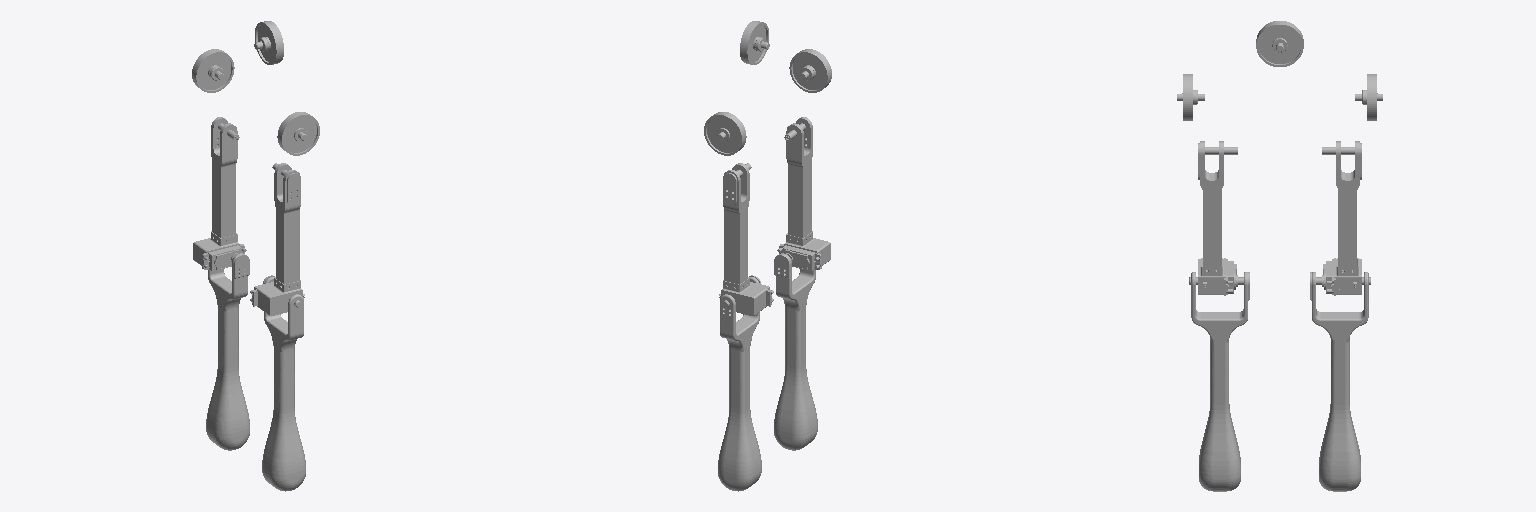
The robot description file, URDF, robot "URDF":
<?xml version="1.0" encoding="utf-8"?>
<!-- This URDF was automatically created by SolidWorks to URDF Exporter! Originally created by [author] ([email redacted]) 
     Commit Version: 1.6.0-4-g7f85cfe  Build Version: 1.6.7995.38578
     For more information, please see http://wiki.ros.org/sw_urdf_exporter -->
<robot
  name="URDF">
  <link
    name="upperBody">
    <inertial>
      <origin
        xyz="5.4157E-05 -5.6436E-05 0.45014"
        rpy="0 0 0" />
      <mass
        value="0.69458" />
      <inertia
        ixx="0.0016405"
        ixy="-1.0555E-06"
        ixz="-3.5849E-06"
        iyy="0.00080381"
        iyz="1.041E-07"
        izz="0.0017758" />
    </inertial>
    <visual>
      <origin
        xyz="0 0 0"
        rpy="0 0 0" />
      <geometry>
        <mesh
          filename="package://URDF/meshes/upperBody.STL" />
      </geometry>
      <material
        name="">
        <color
          rgba="0.75294 0.75294 0.75294 1" />
      </material>
    </visual>
    <collision>
      <origin
        xyz="0 0 0"
        rpy="0 0 0" />
      <geometry>
        <mesh
          filename="package://URDF/meshes/upperBody.STL" />
      </geometry>
    </collision>
  </link>
  <link
    name="upperRightLeg">
    <inertial>
      <origin
        xyz="-0.0040697 -0.029523 -0.10457"
        rpy="0 0 0" />
      <mass
        value="0.097368" />
      <inertia
        ixx="8.9886E-05"
        ixy="6.8313E-08"
        ixz="-1.7783E-07"
        iyy="9.0572E-05"
        iyz="-2.9441E-07"
        izz="1.6415E-05" />
    </inertial>
    <visual>
      <origin
        xyz="0 0 0"
        rpy="0 0 0" />
      <geometry>
        <mesh
          filename="package://URDF/meshes/upperRightLeg.STL" />
      </geometry>
      <material
        name="">
        <color
          rgba="0.75294 0.75294 0.75294 1" />
      </material>
    </visual>
    <collision>
      <origin
        xyz="0 0 0"
        rpy="0 0 0" />
      <geometry>
        <mesh
          filename="package://URDF/meshes/upperRightLeg.STL" />
      </geometry>
    </collision>
  </link>
  <joint
    name="rightHip"
    type="revolute">
    <origin
      xyz="0 -0.04025 0.39425"
      rpy="0 0 0" />
    <parent
      link="upperBody" />
    <child
      link="upperRightLeg" />
    <axis
      xyz="0 -1 0" />
    <limit
      lower="-1.5708"
      upper="1.5708"
      effort="1.0787"
      velocity="6.9813" />
  </joint>
  <link
    name="lowerRightLeg">
    <inertial>
      <origin
        xyz="5.6613E-11 -0.022978 -0.15763"
        rpy="0 0 0" />
      <mass
        value="0.17256" />
      <inertia
        ixx="0.00080105"
        ixy="3.8419E-10"
        ixz="-1.0083E-12"
        iyy="0.0007918"
        iyz="5.9669E-07"
        izz="3.7266E-05" />
    </inertial>
    <visual>
      <origin
        xyz="0 0 0"
        rpy="0 0 0" />
      <geometry>
        <mesh
          filename="package://URDF/meshes/lowerRightLeg.STL" />
      </geometry>
      <material
        name="">
        <color
          rgba="0.75294 0.75294 0.75294 1" />
      </material>
    </visual>
    <collision>
      <origin
        xyz="0 0 0"
        rpy="0 0 0" />
      <geometry>
        <mesh
          filename="package://URDF/meshes/lowerRightLeg.STL" />
      </geometry>
    </collision>
  </link>
  <joint
    name="rightKnee"
    type="revolute">
    <origin
      xyz="0.0002 0 -0.15175"
      rpy="0 0 0" />
    <parent
      link="upperRightLeg" />
    <child
      link="lowerRightLeg" />
    <axis
      xyz="0 -1 0" />
    <limit
      lower="-1.5708"
      upper="1.5708"
      effort="1.0787"
      velocity="6.9813" />
  </joint>
  <link
    name="upperLeftLeg">
    <inertial>
      <origin
        xyz="-0.0040697 0.029523 -0.10457"
        rpy="0 0 0" />
      <mass
        value="0.097368" />
      <inertia
        ixx="8.9887E-05"
        ixy="-6.8315E-08"
        ixz="-1.7808E-07"
        iyy="9.0573E-05"
        iyz="2.9445E-07"
        izz="1.6415E-05" />
    </inertial>
    <visual>
      <origin
        xyz="0 0 0"
        rpy="0 0 0" />
      <geometry>
        <mesh
          filename="package://URDF/meshes/upperLeftLeg.STL" />
      </geometry>
      <material
        name="">
        <color
          rgba="0.75294 0.75294 0.75294 1" />
      </material>
    </visual>
    <collision>
      <origin
        xyz="0 0 0"
        rpy="0 0 0" />
      <geometry>
        <mesh
          filename="package://URDF/meshes/upperLeftLeg.STL" />
      </geometry>
    </collision>
  </link>
  <joint
    name="leftHip"
    type="revolute">
    <origin
      xyz="0 0.04025 0.39425"
      rpy="0 0 0" />
    <parent
      link="upperBody" />
    <child
      link="upperLeftLeg" />
    <axis
      xyz="0 -1 0" />
    <limit
      lower="-1.5708"
      upper="1.5708"
      effort="1.0787"
      velocity="6.9813" />
  </joint>
  <link
    name="lowerLeftLeg">
    <inertial>
      <origin
        xyz="5.1713E-11 0.022932 -0.15763"
        rpy="0 0 0" />
      <mass
        value="0.17256" />
      <inertia
        ixx="0.00080105"
        ixy="3.8419E-10"
        ixz="-9.3344E-13"
        iyy="0.0007918"
        iyz="5.8062E-07"
        izz="3.7266E-05" />
    </inertial>
    <visual>
      <origin
        xyz="0 0 0"
        rpy="0 0 0" />
      <geometry>
        <mesh
          filename="package://URDF/meshes/lowerLeftLeg.STL" />
      </geometry>
      <material
        name="">
        <color
          rgba="0.75294 0.75294 0.75294 1" />
      </material>
    </visual>
    <collision>
      <origin
        xyz="0 0 0"
        rpy="0 0 0" />
      <geometry>
        <mesh
          filename="package://URDF/meshes/lowerLeftLeg.STL" />
      </geometry>
    </collision>
  </link>
  <joint
    name="leftKnee"
    type="revolute">
    <origin
      xyz="0.0002 0 -0.15175"
      rpy="0 0 0" />
    <parent
      link="upperLeftLeg" />
    <child
      link="lowerLeftLeg" />
    <axis
      xyz="0 -1 0" />
    <limit
      lower="-1.5708"
      upper="1.5708"
      effort="1.0787"
      velocity="6.9813" />
  </joint>
  <link
    name="rightRW">
    <inertial>
      <origin
        xyz="-3.9575E-17 -0.017794 0"
        rpy="0 0 0" />
      <mass
        value="0.096474" />
      <inertia
        ixx="1.6889E-05"
        ixy="-1.699E-24"
        ixz="-9.8805E-24"
        iyy="3.2633E-05"
        iyz="-1.7777E-22"
        izz="1.6889E-05" />
    </inertial>
    <visual>
      <origin
        xyz="0 0 0"
        rpy="0 0 0" />
      <geometry>
        <mesh
          filename="package://URDF/meshes/rightRW.STL" />
      </geometry>
      <material
        name="">
        <color
          rgba="0.75294 0.75294 0.75294 1" />
      </material>
    </visual>
    <collision>
      <origin
        xyz="0 0 0"
        rpy="0 0 0" />
      <geometry>
        <mesh
          filename="package://URDF/meshes/rightRW.STL" />
      </geometry>
    </collision>
  </link>
  <joint
    name="rrw"
    type="continuous">
    <origin
      xyz="0 -0.0791 0.45655"
      rpy="0 0 0" />
    <parent
      link="upperBody" />
    <child
      link="rightRW" />
    <axis
      xyz="0 -1 0" />
  </joint>
  <link
    name="leftRW">
    <inertial>
      <origin
        xyz="-6.977E-17 0.017794 5.5511E-17"
        rpy="0 0 0" />
      <mass
        value="0.096474" />
      <inertia
        ixx="1.6889E-05"
        ixy="-2.3366E-23"
        ixz="-2.0441E-23"
        iyy="3.2633E-05"
        iyz="1.9131E-21"
        izz="1.6889E-05" />
    </inertial>
    <visual>
      <origin
        xyz="0 0 0"
        rpy="0 0 0" />
      <geometry>
        <mesh
          filename="package://URDF/meshes/leftRW.STL" />
      </geometry>
      <material
        name="">
        <color
          rgba="0.75294 0.75294 0.75294 1" />
      </material>
    </visual>
    <collision>
      <origin
        xyz="0 0 0"
        rpy="0 0 0" />
      <geometry>
        <mesh
          filename="package://URDF/meshes/leftRW.STL" />
      </geometry>
    </collision>
  </link>
  <joint
    name="lrw"
    type="continuous">
    <origin
      xyz="0 0.0791 0.45655"
      rpy="0 0 0" />
    <parent
      link="upperBody" />
    <child
      link="leftRW" />
    <axis
      xyz="0 -1 0" />
  </joint>
  <link
    name="centerRW">
    <inertial>
      <origin
        xyz="0.017394 1.9432E-18 -1.1102E-16"
        rpy="0 0 0" />
      <mass
        value="0.096474" />
      <inertia
        ixx="3.2633E-05"
        ixy="-7.4288E-22"
        ixz="-6.3098E-21"
        iyy="1.6889E-05"
        iyz="6.0558E-24"
        izz="1.6889E-05" />
    </inertial>
    <visual>
      <origin
        xyz="0 0 0"
        rpy="0 0 0" />
      <geometry>
        <mesh
          filename="package://URDF/meshes/centerRW.STL" />
      </geometry>
      <material
        name="">
        <color
          rgba="0.75294 0.75294 0.75294 1" />
      </material>
    </visual>
    <collision>
      <origin
        xyz="0 0 0"
        rpy="0 0 0" />
      <geometry>
        <mesh
          filename="package://URDF/meshes/centerRW.STL" />
      </geometry>
    </collision>
  </link>
  <joint
    name="crw"
    type="continuous">
    <origin
      xyz="0 0 0.5268"
      rpy="0 0 0" />
    <parent
      link="upperBody" />
    <child
      link="centerRW" />
    <axis
      xyz="-1 0 0" />
  </joint>
</robot>

--- What the picture shows (computed from the rendered views, not written in the file) ---
The picture shows the robot from 3 angles, left to right: view 1: azimuth 30°, elevation 25°; view 2: azimuth 150°, elevation 25°; view 3: azimuth 270°, elevation 25°; orthographic projection.
Robot: URDF — 8 links, 7 joints (4 revolute, 3 continuous); root link upperBody; default pose: every joint at zero.
Links seen in each view (by area): view 1: lowerLeftLeg, lowerRightLeg, upperLeftLeg, upperRightLeg, leftRW, rightRW, centerRW; view 2: lowerRightLeg, lowerLeftLeg, upperRightLeg, upperLeftLeg, rightRW, leftRW, centerRW; view 3: lowerRightLeg, lowerLeftLeg, upperRightLeg, upperLeftLeg, centerRW, rightRW, leftRW.
Boxes of the visible links, box(x1,y1,x2,y2) form: lowerLeftLeg: box(206, 253, 249, 450); lowerRightLeg: box(262, 275, 305, 491); upperLeftLeg: box(193, 117, 246, 270); upperRightLeg: box(250, 163, 304, 315); leftRW: box(192, 49, 234, 92); rightRW: box(277, 112, 319, 155); centerRW: box(254, 21, 283, 64); lowerRightLeg: box(774, 253, 817, 450); lowerLeftLeg: box(718, 275, 761, 491); upperRightLeg: box(777, 117, 830, 270); upperLeftLeg: box(719, 163, 773, 315); rightRW: box(789, 49, 831, 92); leftRW: box(704, 112, 746, 155); centerRW: box(740, 21, 769, 64); lowerRightLeg: box(1191, 272, 1249, 491); lowerLeftLeg: box(1310, 272, 1368, 491); upperRightLeg: box(1189, 141, 1237, 295); upperLeftLeg: box(1322, 141, 1370, 295); centerRW: box(1256, 21, 1303, 66); rightRW: box(1177, 74, 1204, 120); leftRW: box(1355, 74, 1382, 120).
Bounding box of the posed robot: 0.0665 × 0.218 × 0.5518 m (x, y, z).
7 mesh visuals loaded from 8 distinct referenced files (7 binary STL); not drawn: 1 (reference not matched to a file when rendering).